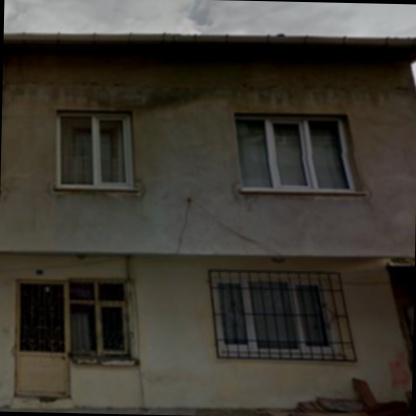door: (15, 281, 69, 393)
